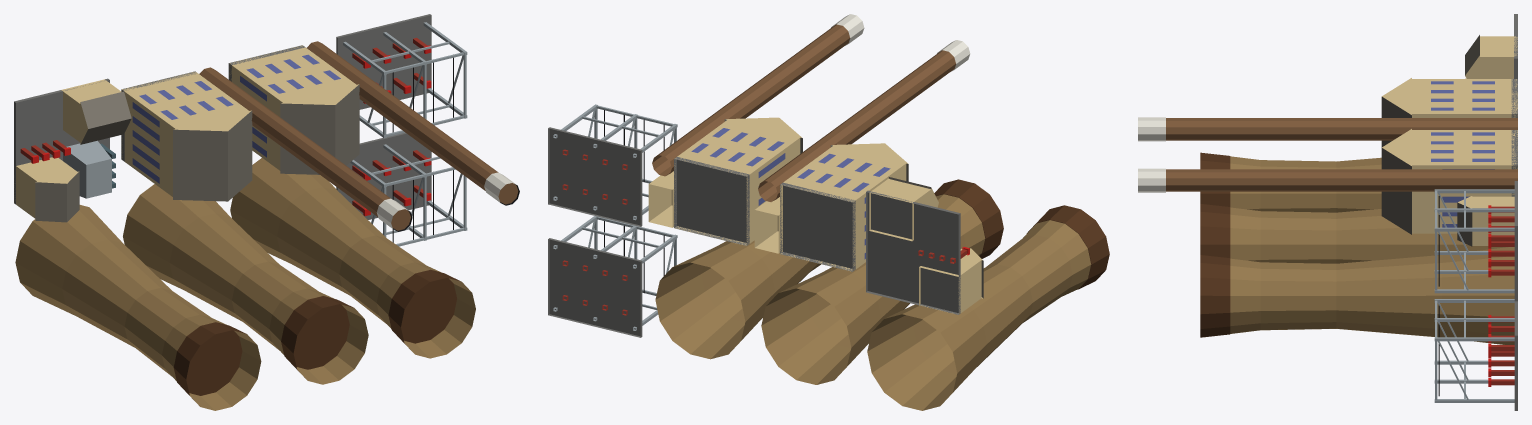
Rendered from construction_2.glb.
3 views of the same model, side by side, from view 1: azimuth 30°, elevation 25°; view 2: azimuth 150°, elevation 25°; view 3: azimuth 270°, elevation 25° (orthographic). The views are drawn at different scales.
Visible parts, largest first — view 1: t00_g7.002, t10_g7.002, t20_g7.002, t11_g8.002, t21_g8.002, t01_g9.002, t31_g10.002, t30_g10.002; view 2: t00_g7.002, t21_g8.002, t11_g8.002, t10_g7.002, t01_g9.002, t20_g7.002, t30_g10.002, t31_g10.002; view 3: t20_g7.002, t21_g8.002, t11_g8.002, t10_g7.002, t00_g7.002, t31_g10.002, t30_g10.002, t01_g9.002.
Boxes of the visible parts, box(x1,y1,x2,y2) form: t00_g7.002: box(15, 205, 261, 410); t10_g7.002: box(123, 184, 368, 384); t20_g7.002: box(230, 158, 475, 358); t11_g8.002: box(121, 67, 412, 231); t21_g8.002: box(228, 41, 519, 205); t01_g9.002: box(14, 78, 131, 222); t31_g10.002: box(336, 14, 467, 138); t30_g10.002: box(336, 132, 467, 246); t00_g7.002: box(867, 205, 1109, 410); t21_g8.002: box(648, 14, 864, 245); t11_g8.002: box(754, 40, 970, 271); t10_g7.002: box(761, 179, 1003, 384); t01_g9.002: box(866, 177, 983, 314); t20_g7.002: box(655, 240, 820, 359); t30_g10.002: box(548, 216, 677, 337); t31_g10.002: box(548, 104, 677, 226); t20_g7.002: box(1200, 247, 1514, 344); t21_g8.002: box(1138, 129, 1517, 246); t11_g8.002: box(1138, 78, 1517, 147); t10_g7.002: box(1200, 204, 1507, 263); t00_g7.002: box(1200, 152, 1381, 212); t31_g10.002: box(1434, 181, 1517, 301); t30_g10.002: box(1434, 299, 1517, 410); t01_g9.002: box(1465, 14, 1517, 78).
Bounding box in the file's own units: 62.3 × 29.93 × 50.2.
